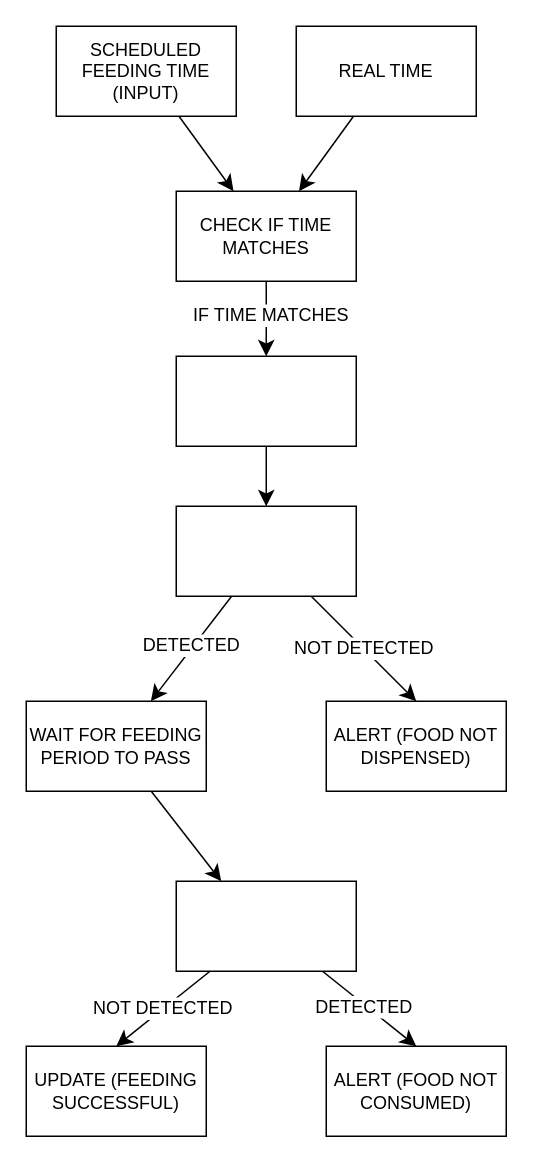
Some shapes in this 533 by 1163 pixel diagram are drawn without their labels. Here are the shapes that lost their labels. From the top down, the centre of each, then its label:
point (265, 400): ACTIVATE MOTOR TO DISPENSE FOOD
point (265, 550): FOOD SENSOR CHECK
point (265, 925): FOOD SCALE CHECK
